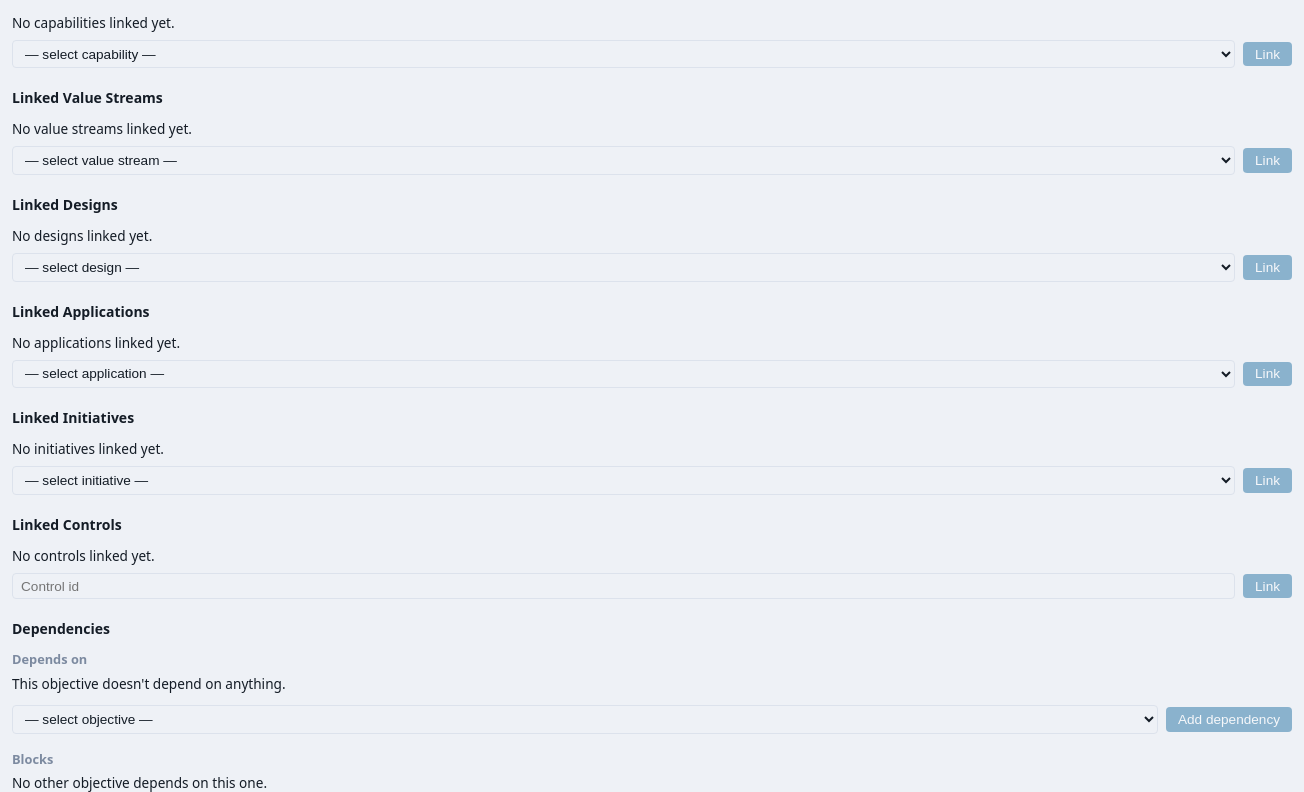
Test: ObjectiveDetail: dependencies panel (ADP-d8u.6, T027) › surfaces the server's cycle-rejection message on a 400 response
(page scrolled)
Select "Launch new product line" in the 6th dropdown showing "— select objective —" at (585, 719), box [12,705,1158,734]
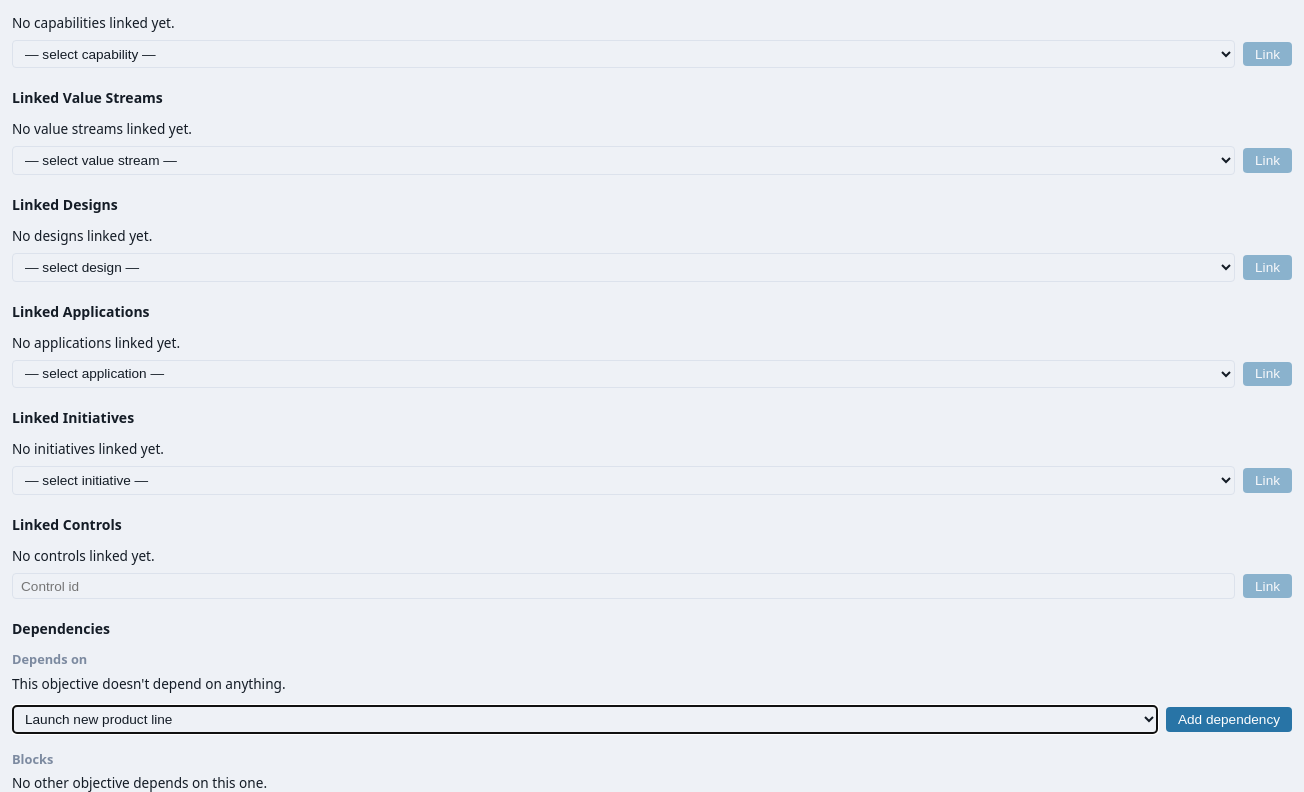
Click the button "Add dependency" at (1229, 719), box [1166,707,1292,732]
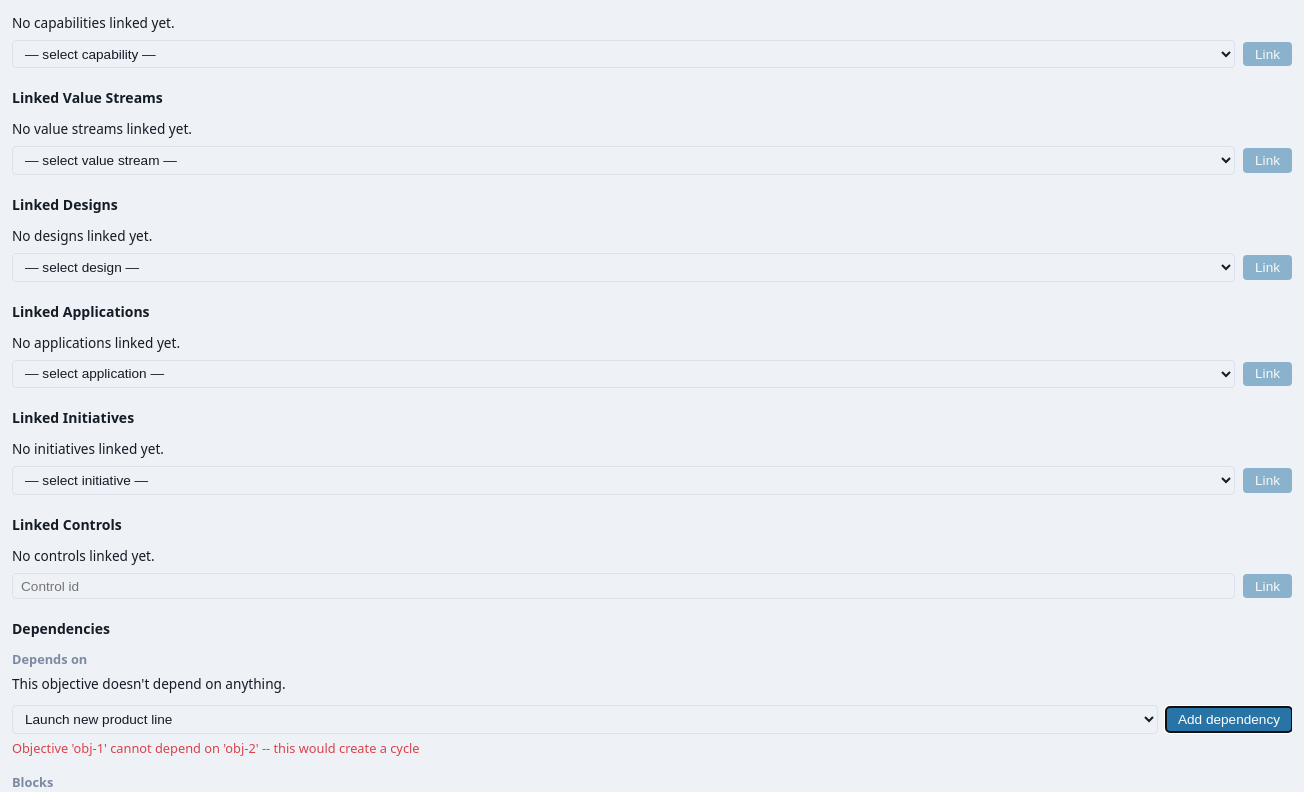
Now the text "would create a cycle" is shown, box [12,739,420,757]
